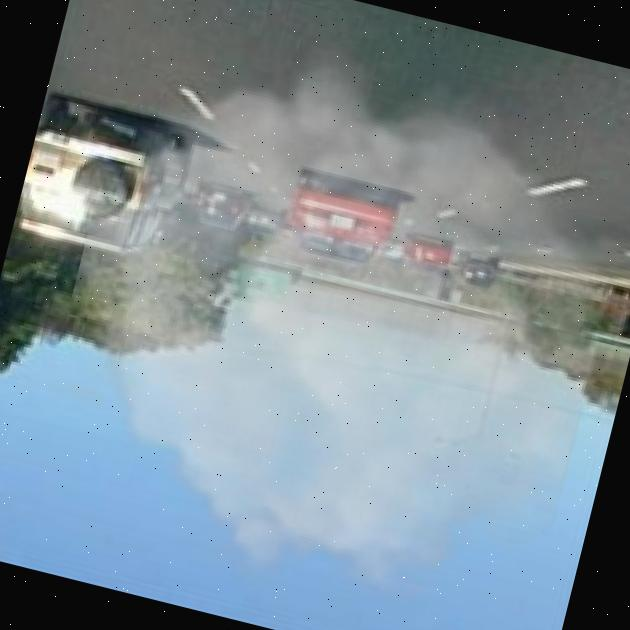smoke: (14, 0, 630, 630)
